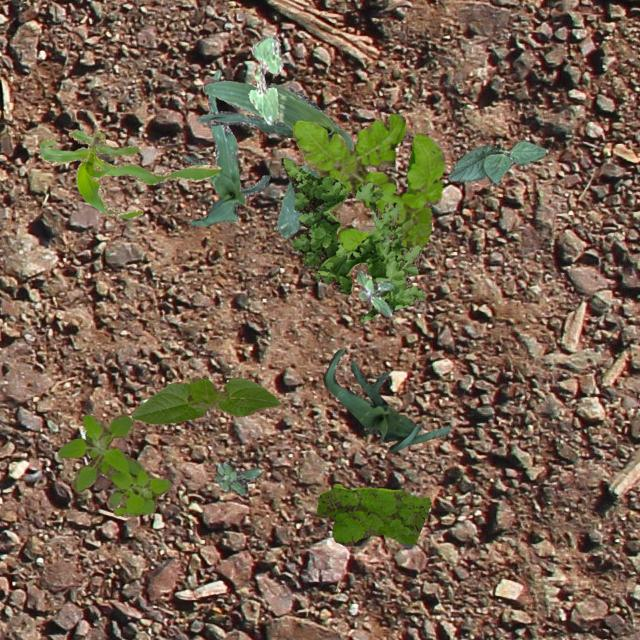crop: (196, 78, 352, 238), (38, 128, 220, 218), (182, 68, 268, 225), (322, 348, 448, 452), (130, 377, 280, 422), (446, 140, 544, 184), (246, 34, 282, 124)
weed: (280, 156, 424, 320), (292, 112, 444, 252), (56, 412, 170, 516), (316, 484, 429, 546), (356, 268, 392, 314), (212, 461, 260, 494)
